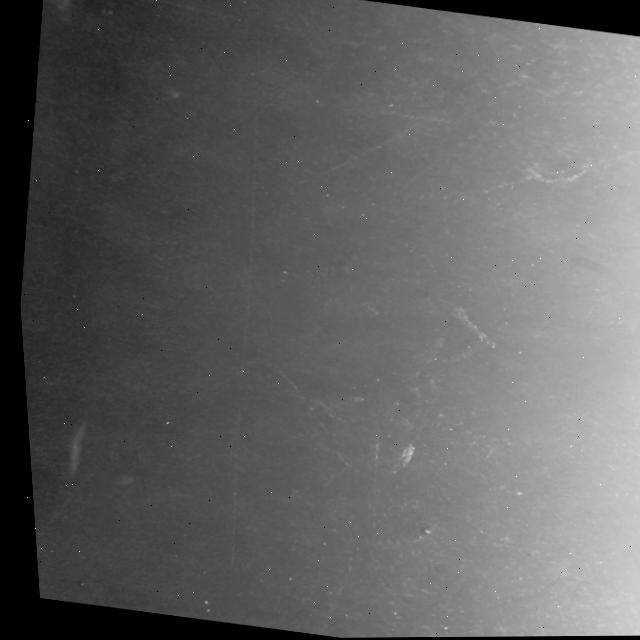beta: (447, 121, 640, 223), (92, 0, 401, 58), (278, 104, 423, 214), (478, 27, 579, 110), (303, 544, 352, 638), (517, 152, 592, 192), (324, 451, 375, 483), (261, 364, 305, 398)
